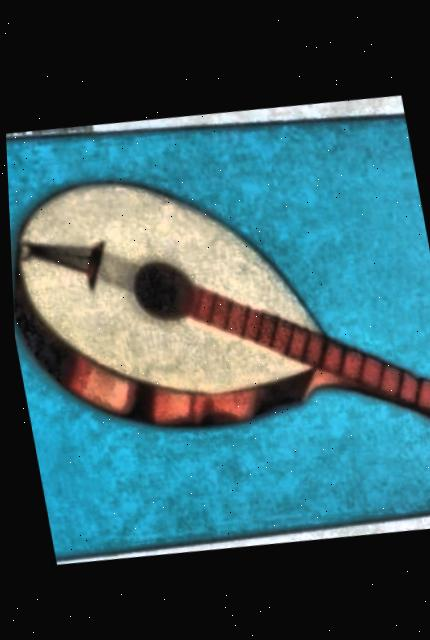El Bandolon: (5, 115, 430, 547)
